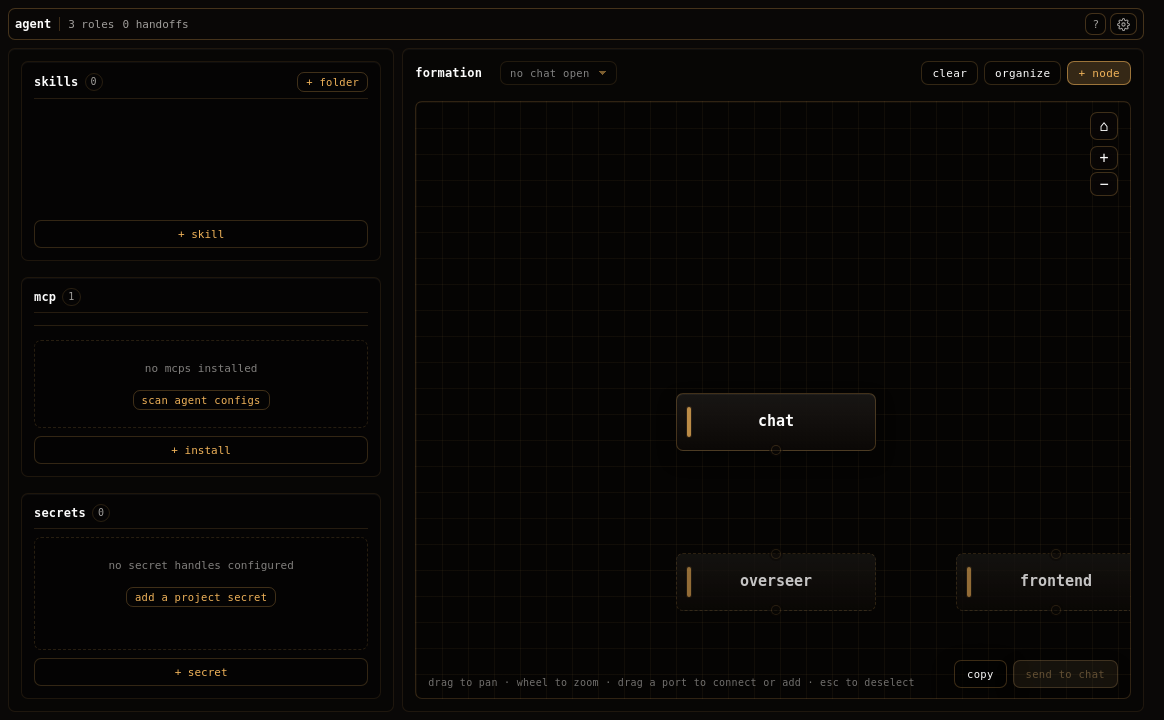
Test: AgentPanel integration › dragging_orphan_input_to_existing_output_adds_handoff
Press the mouse on the button named "drag to frontend to connect" at {"x": 1056, "y": 554}, box [1051, 549, 1061, 559]
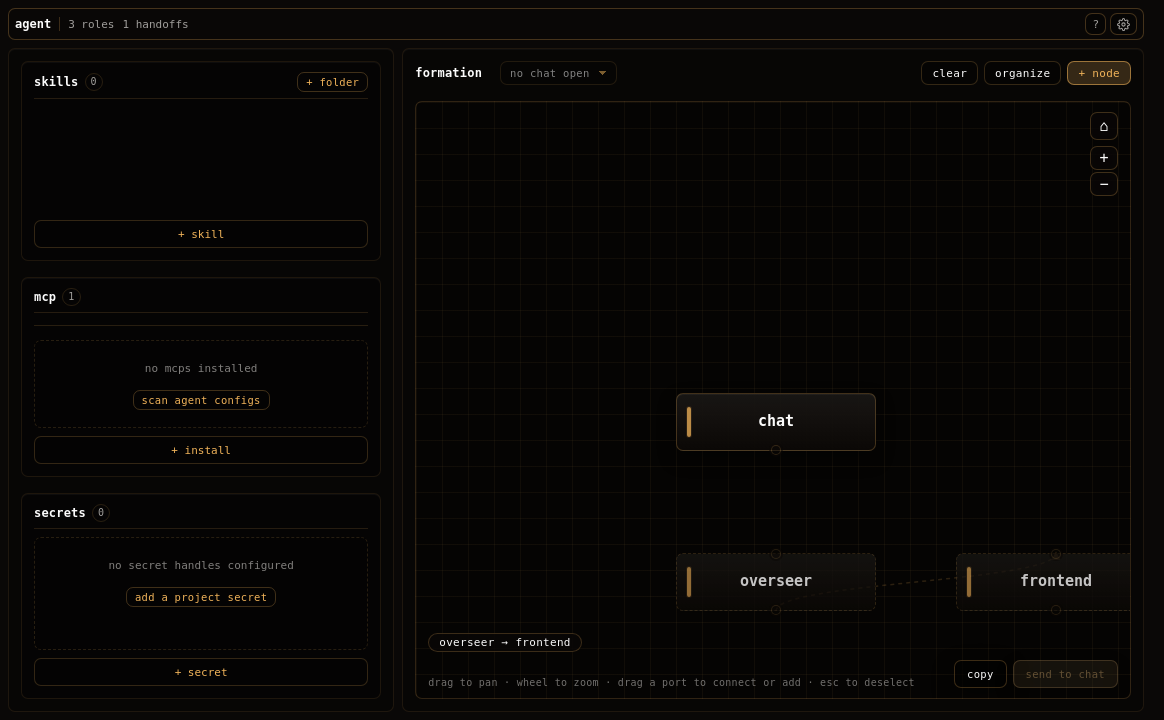
Now the text "1 handoffs" is shown, box [122, 18, 189, 30]
